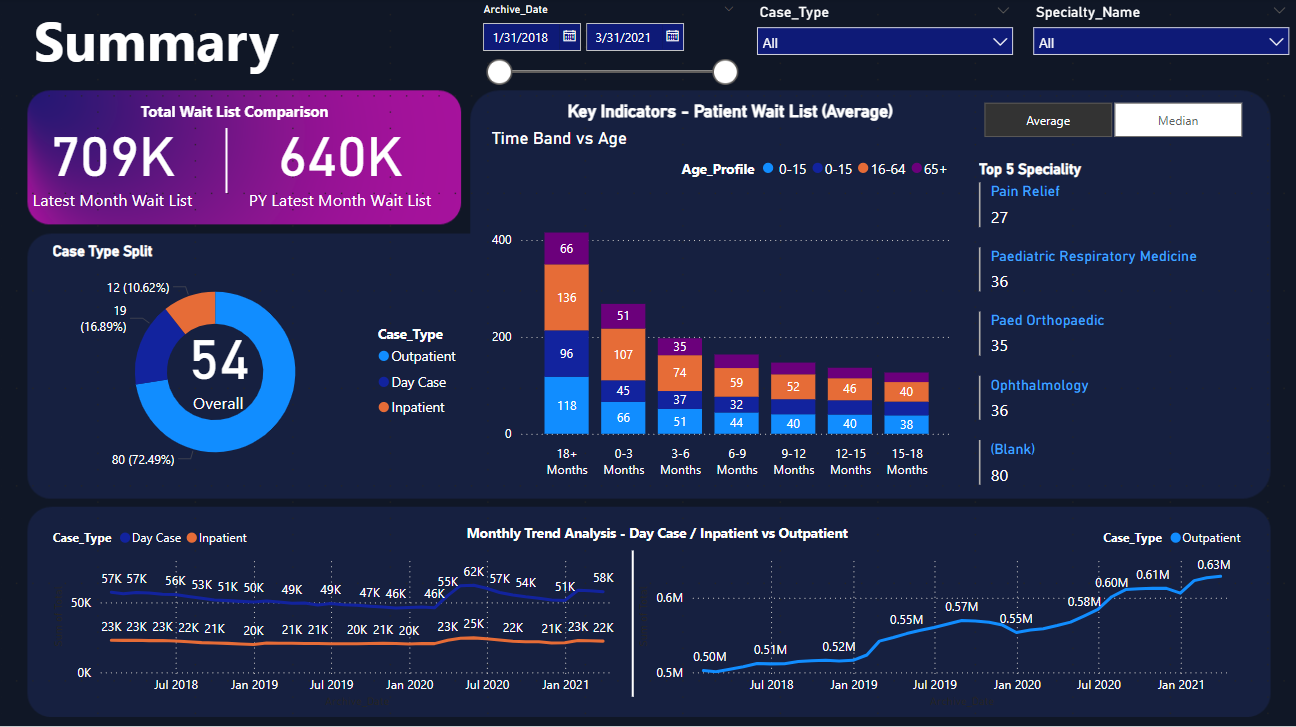

This screenshot's page, from the dashboard's own definition file:
{"tool":"powerbi","page":{"name":"Summary","canvas":[1280,720],"ordinal":0},"visuals":[{"type":"card","fields":{"Values":["All_Data.Latest Month Wait List"]},"box":[0,96,224,128],"z":0},{"type":"card","fields":{"Values":["All_Data.PY Latest Month Wait List"]},"box":[224,96,224,128],"z":1000},{"type":"slicer","fields":{"Values":["Calculation Method.Calc Method"]},"box":[944,96,304,48],"z":2000},{"type":"donutChart","title":"Case Type Split","fields":{"Category":["All_Data.Case_Type"],"Y":["All_Data.Avg/Med Wait List"]},"box":[48,240,416,240],"z":3000},{"type":"columnChart","title":"Time Band vs Age ","fields":{"Y":["All_Data.Avg/Med Wait List"],"Category":["All_Data.Time_Bands"],"Series":["All_Data.Age_Profile"]},"box":[480,128,464,352],"z":4000},{"type":"multiRowCard","title":"Top 5 Speciality","fields":{"Values":["All_Data.Specialty_Name","All_Data.Avg/Med Wait List"]},"box":[960,160,288,352],"z":5000},{"type":"lineChart","fields":{"Y":["Sum(All_Data.Total)"],"Series":["All_Data.Case_Type"],"Category":["All_Data.Archive_Date"]},"box":[48,512,576,192],"z":6000},{"type":"lineChart","fields":{"Y":["Sum(All_Data.Total)"],"Series":["All_Data.Case_Type"],"Category":["All_Data.Archive_Date"]},"box":[624,512,608,192],"z":7000},{"type":"slicer","fields":{"Values":["All_Data.Archive_Date"]},"box":[464,0,272,96],"z":8000},{"type":"slicer","fields":{"Values":["All_Data.Case_Type"]},"box":[736,0,272,96],"z":9000},{"type":"slicer","fields":{"Values":["All_Data.Specialty_Name"]},"box":[1008,0,272,96],"z":10000},{"type":"textbox","box":[0,0,368,96],"z":11000},{"type":"shape","box":[80,128,288,64],"z":12000},{"type":"textbox","box":[96,96,272,32],"z":13000},{"type":"textbox","box":[96,512,1104,32],"z":14000},{"type":"shape","box":[480,544,288,144],"z":15000},{"type":"card","fields":{"Values":["All_Data.Avg/Med Wait List"]},"box":[160,304,112,112],"z":16000},{"type":"card","fields":{"Values":["All_Data.Dynamic Title"]},"box":[480,96,480,32],"z":17000},{"type":"card","fields":{"Values":["All_Data.No Data Left"]},"box":[32,560,592,112],"z":18000},{"type":"card","fields":{"Values":["All_Data.No Data Right"]},"box":[624,560,592,112],"z":19000}]}

Visuals, with their boxes in screenshot pixels (x1, y1, x2, y2), scaled from the page's 1280x720 canvas onto the 1296x727 screenshot:
card - All_Data.Latest Month Wait List: bbox=[0, 97, 227, 226]
card - All_Data.PY Latest Month Wait List: bbox=[227, 97, 454, 226]
slicer - Calculation Method.Calc Method: bbox=[956, 97, 1264, 145]
"Case Type Split" donutChart: bbox=[49, 242, 470, 485]
"Time Band vs Age " columnChart: bbox=[486, 129, 956, 485]
"Top 5 Speciality" multiRowCard: bbox=[972, 162, 1264, 517]
lineChart - Sum(All_Data.Total) x All_Data.Case_Type: bbox=[49, 517, 632, 711]
lineChart - Sum(All_Data.Total) x All_Data.Case_Type: bbox=[632, 517, 1247, 711]
slicer - All_Data.Archive_Date: bbox=[470, 0, 745, 97]
slicer - All_Data.Case_Type: bbox=[745, 0, 1021, 97]
slicer - All_Data.Specialty_Name: bbox=[1021, 0, 1295, 97]
textbox: bbox=[0, 0, 373, 97]
shape: bbox=[81, 129, 373, 194]
textbox: bbox=[97, 97, 373, 129]
textbox: bbox=[97, 517, 1215, 549]
shape: bbox=[486, 549, 778, 695]
card - All_Data.Avg/Med Wait List: bbox=[162, 307, 275, 420]
card - All_Data.Dynamic Title: bbox=[486, 97, 972, 129]
card - All_Data.No Data Left: bbox=[32, 565, 632, 679]
card - All_Data.No Data Right: bbox=[632, 565, 1231, 679]
